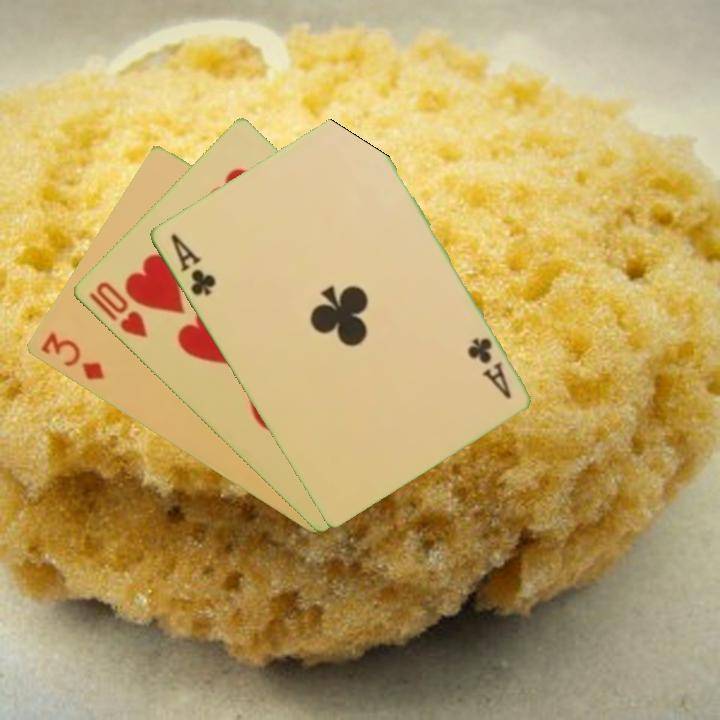10h: (91, 278, 150, 341)
3d: (36, 329, 107, 383)
Ac: (166, 230, 219, 299), (463, 333, 514, 402)
